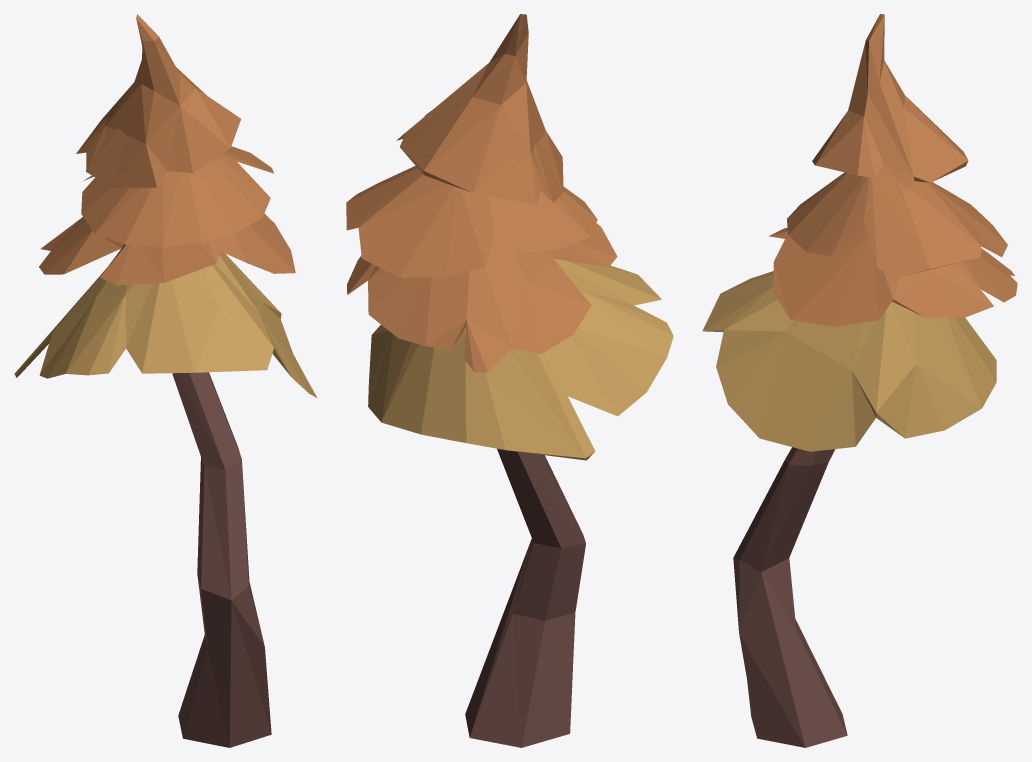
The model's file is PineTree_Autumn_4.lod2.glb.
3 views of the same model, side by side, from view 1: azimuth 30°, elevation 25°; view 2: azimuth 150°, elevation 25°; view 3: azimuth 270°, elevation 25° (orthographic). The views are drawn at different scales.
Parts seen in each view (by area): view 1: PineTree_Autumn_4; view 2: PineTree_Autumn_4; view 3: PineTree_Autumn_4.
Part boxes in pixels (x1,y1,x2,y2): PineTree_Autumn_4: (14,14,317,747); PineTree_Autumn_4: (346,14,673,747); PineTree_Autumn_4: (702,14,1017,747).
Bounding box in the file's own units: 1.24 × 3.35 × 1.39.
